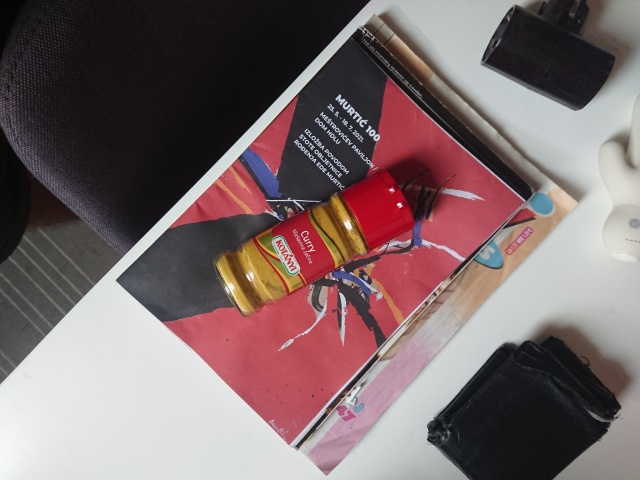Kotanyi Curry Spices Mix 70g: (209, 166, 418, 320)
